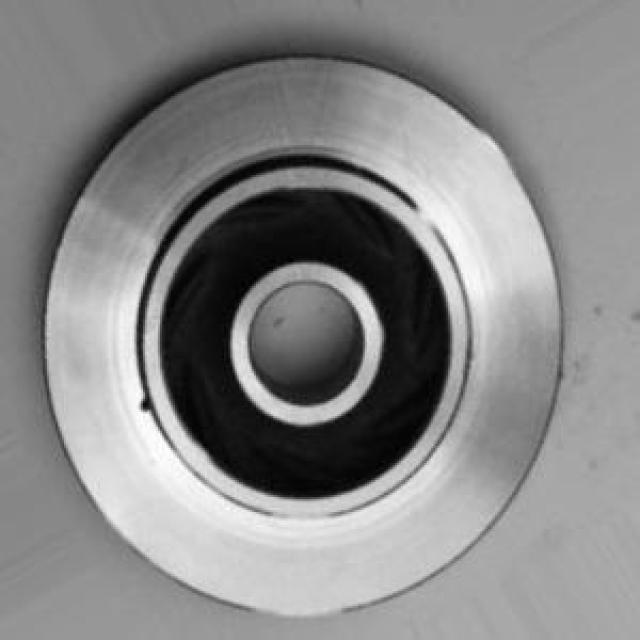Defect: (133, 395, 166, 424)
